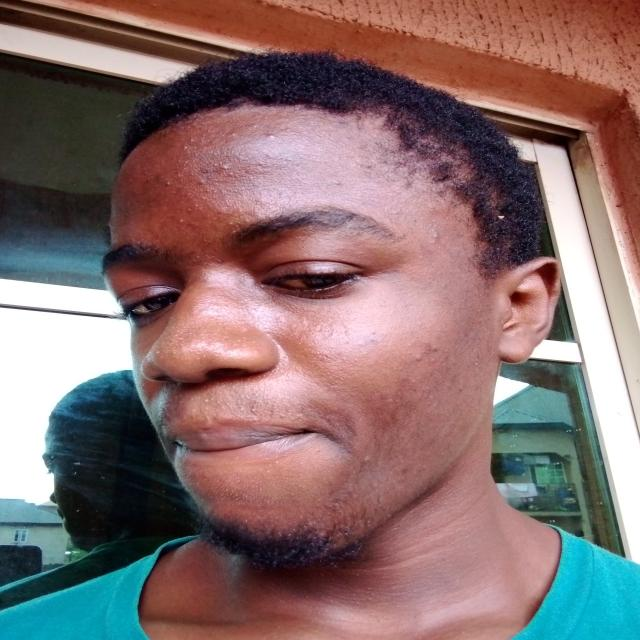Acne: (303, 324, 344, 334), (173, 160, 189, 178), (278, 313, 294, 329), (263, 153, 293, 161), (426, 228, 439, 244), (143, 166, 155, 183), (185, 204, 200, 214), (202, 166, 218, 175), (467, 360, 478, 371), (286, 126, 298, 136), (227, 171, 240, 179), (412, 355, 423, 364), (220, 163, 231, 172), (202, 188, 218, 194), (223, 220, 236, 227), (362, 456, 371, 466), (459, 331, 468, 341), (198, 176, 207, 186), (228, 130, 239, 138), (266, 132, 276, 140), (213, 160, 224, 167), (352, 162, 363, 169), (331, 180, 340, 188), (209, 177, 221, 183), (429, 345, 439, 352), (334, 155, 344, 162), (176, 218, 184, 226), (164, 180, 171, 188), (188, 136, 196, 143), (251, 123, 259, 129), (182, 144, 188, 152), (409, 379, 416, 385), (430, 356, 435, 362)
Englarged-Pores: (203, 161, 291, 185)
